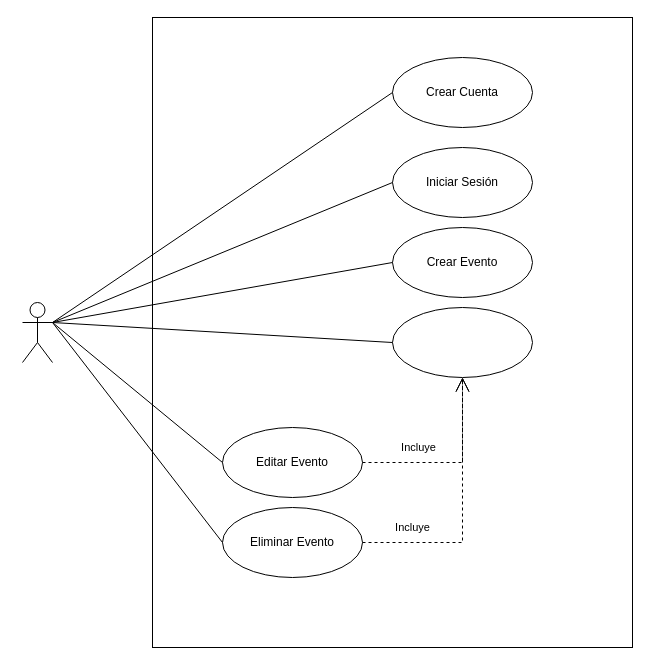
Some shapes in this 650 by 665 pixel diagram are drawn without their labels. Here are the shapes that lost their labels. From the top down, the centre of each, then its label:
At point (37, 332): "Usuario".
At point (462, 342): "Listar Eventos".
